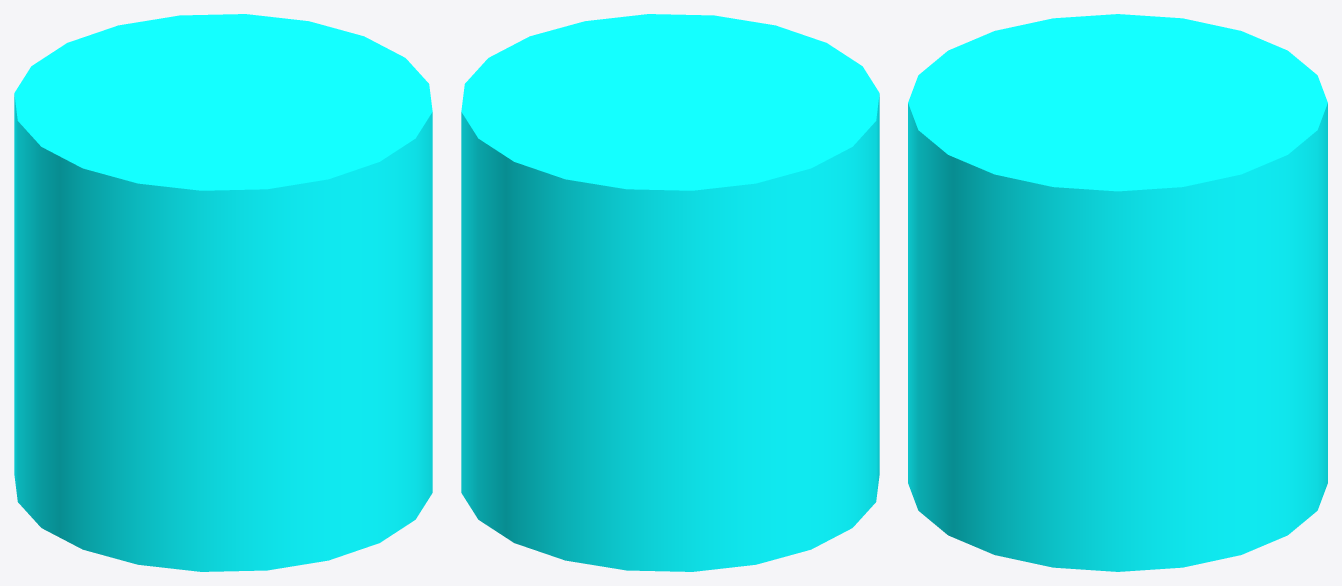
Rendered from BaseCylinder.005.glb.
The picture shows the model from 3 angles, left to right: view 1: azimuth 30°, elevation 25°; view 2: azimuth 150°, elevation 25°; view 3: azimuth 270°, elevation 25°; orthographic projection.
Parts seen in each view (by area): view 1: BaseCylinder.005; view 2: BaseCylinder.005; view 3: BaseCylinder.005.
Boxes of the visible parts, box(x1,y1,x2,y2) form: BaseCylinder.005: box(14, 14, 432, 571); BaseCylinder.005: box(461, 14, 879, 571); BaseCylinder.005: box(908, 14, 1327, 571).
Size of what is drawn, in the model's own units: 0.7489 by 0.7489 by 0.7489.
Materials: 1 (1 with a texture image).
